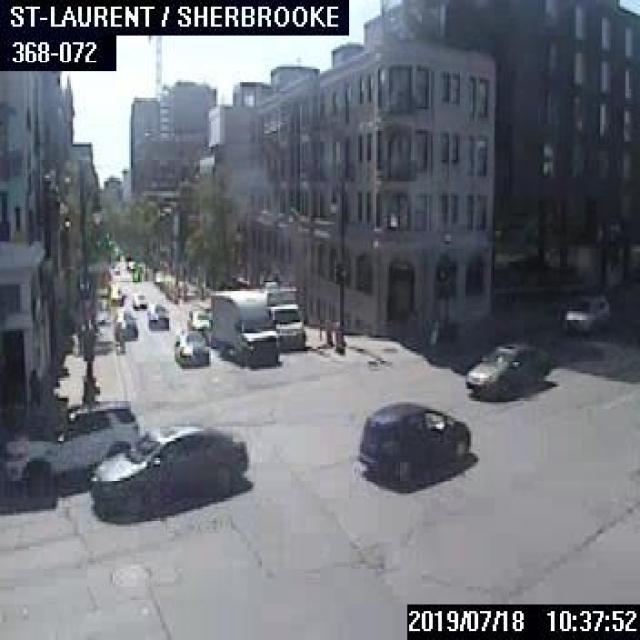pedestrian: (26, 367, 39, 411)
vehicle: (92, 423, 245, 512), (1, 398, 137, 495), (358, 400, 468, 482), (207, 289, 275, 361), (463, 340, 550, 392), (260, 280, 304, 348), (562, 293, 609, 331), (173, 330, 208, 366), (115, 310, 136, 338), (145, 302, 167, 328), (186, 306, 209, 328), (131, 292, 146, 308)
